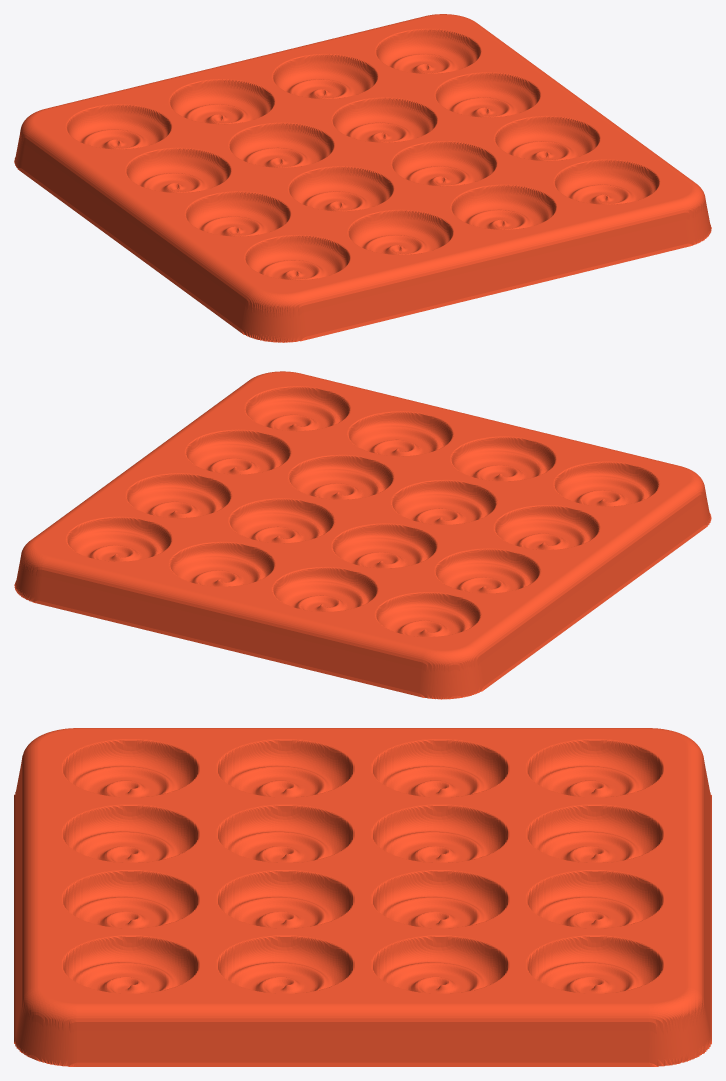
The model's file is mold.glb.
3 views of the same model, one above another, from view 1: azimuth 30°, elevation 25°; view 2: azimuth 150°, elevation 25°; view 3: azimuth 270°, elevation 25° (orthographic). The views are drawn at different scales.
Parts seen in each view (by area): view 1: geometry_0; view 2: geometry_0; view 3: geometry_0.
Boxes of the visible parts, x1,y1,x2,y2 form: geometry_0: (14, 14, 711, 342); geometry_0: (14, 371, 711, 699); geometry_0: (14, 728, 711, 1066).
Size of the model in its own units: 0.0992 by 0.00831 by 0.0992.
